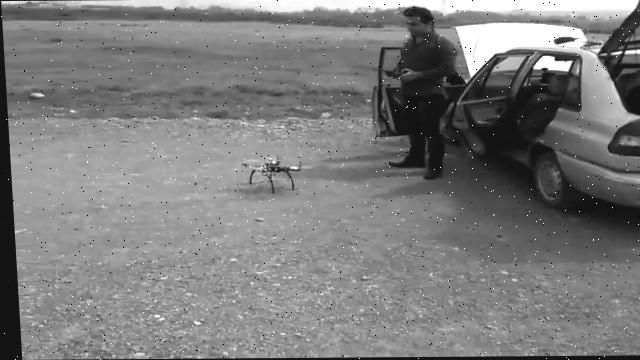drone: (237, 153, 304, 192)
